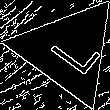L_NW: (37, 23, 99, 78)
